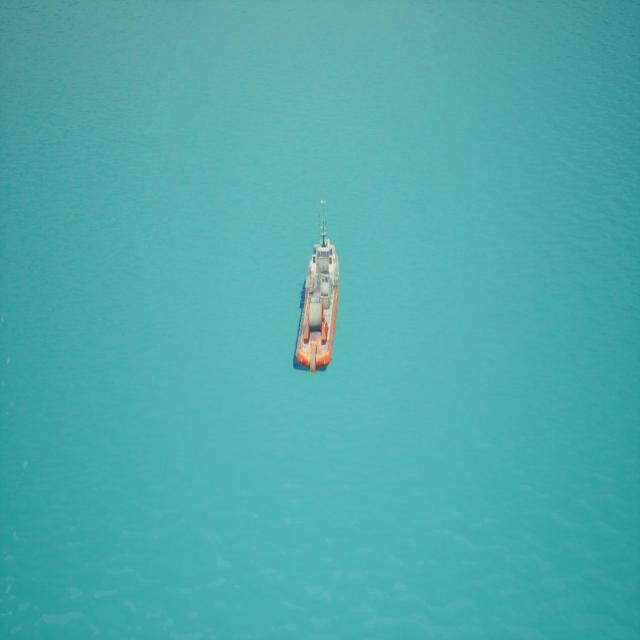tug boat: (293, 195, 345, 372)
